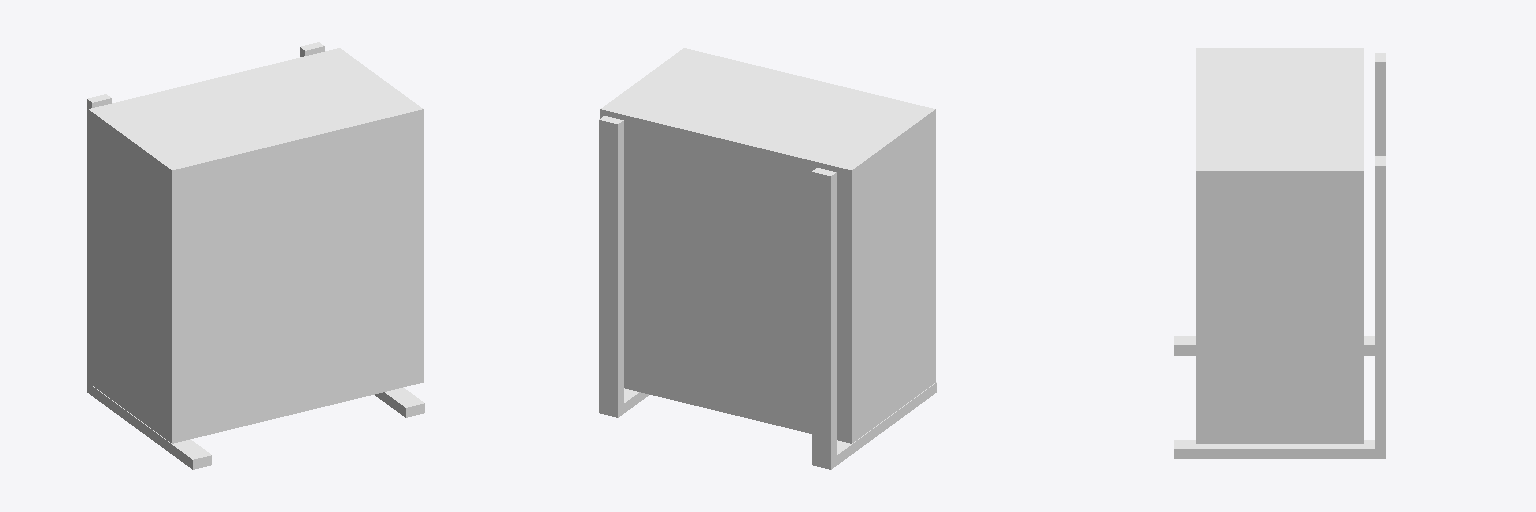
The model's file is air_conditioning-1-lod2.obj.
The picture shows the model from 3 angles: view 1: azimuth 30°, elevation 25°; view 2: azimuth 150°, elevation 25°; view 3: azimuth 270°, elevation 25°; orthographic projection.
Parts seen in each view (by area): view 1: lod2; view 2: lod2; view 3: lod2.
Part boxes in pixels (x1,y1,x2,y2): lod2: (87, 42, 424, 469); lod2: (599, 48, 936, 469); lod2: (1174, 48, 1385, 458).
Bounding box in the file's own units: 10.4 × 11.6 × 7.6.